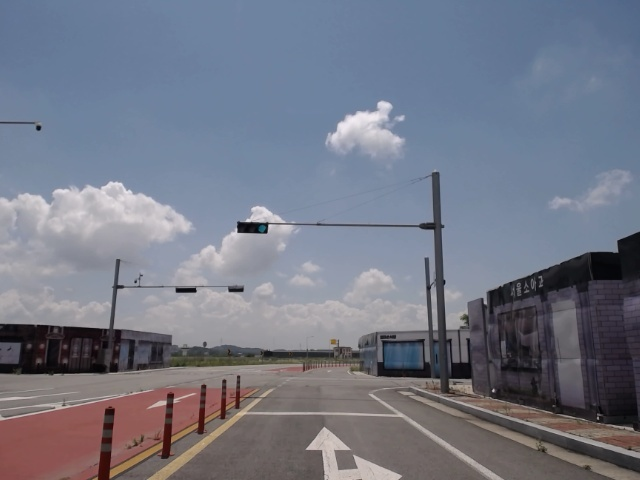green_3: (238, 224, 268, 233)
